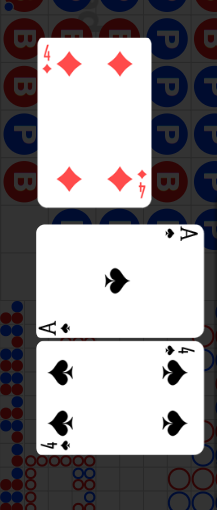4D: (41, 44, 53, 76)
4S: (162, 344, 196, 357)
AS: (163, 226, 199, 243)
